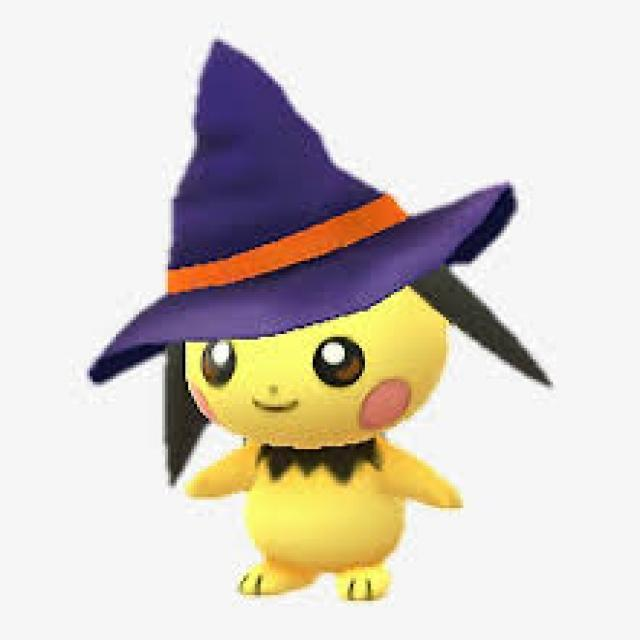pichu: (152, 242, 528, 595)
